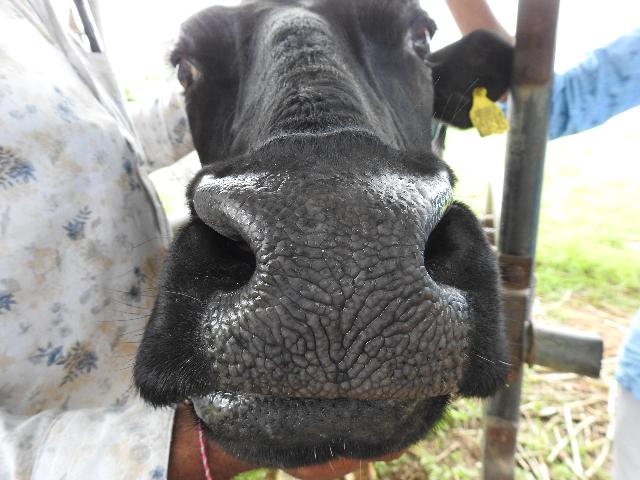Muzzle: (228, 179, 442, 395)
